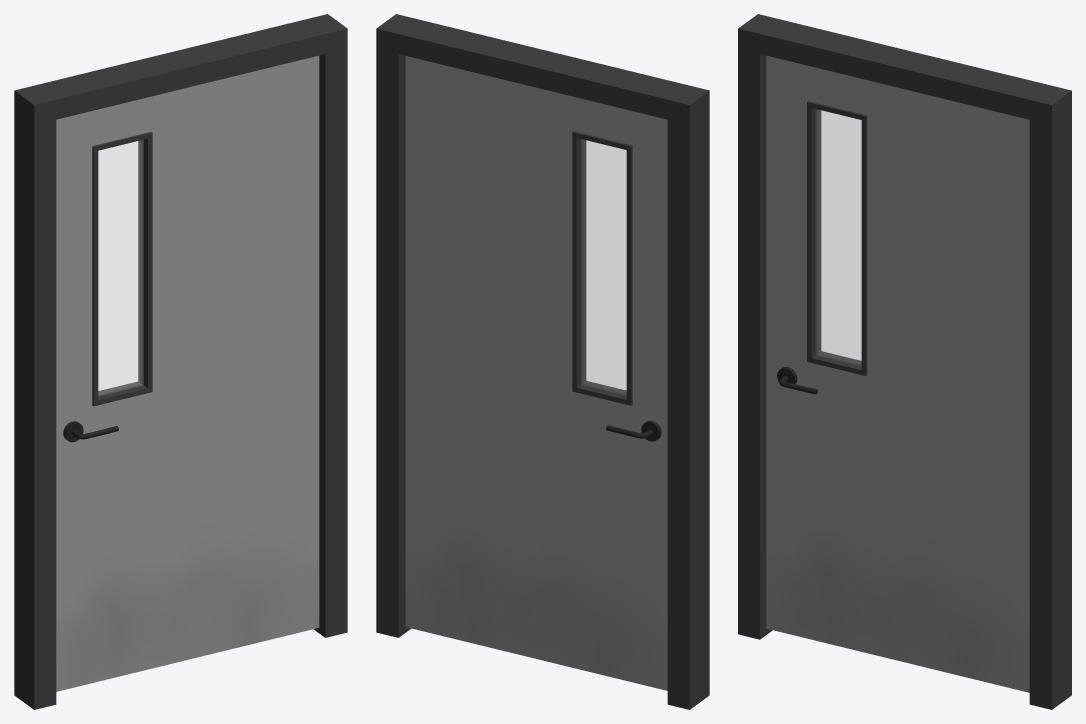
Rendered from Door 1.fbx.
3 renders of one model, left to right at view 1: azimuth 30°, elevation 25°; view 2: azimuth 150°, elevation 25°; view 3: azimuth 330°, elevation 25°, orthographic.
Parts seen in each view (by area): view 1: door 1, door frame; view 2: door 1, door frame; view 3: door 1, door frame.
Part boxes in pixels (x1,y1,x2,y2): door 1: (56,55,319,691); door frame: (14,14,347,709); door 1: (405,56,667,690); door frame: (376,14,709,709); door 1: (766,55,1029,692); door frame: (738,14,1071,709).
Size of the model in its own units: 115 by 213 by 17.04.
Materials: 2 (1 with a texture image).
